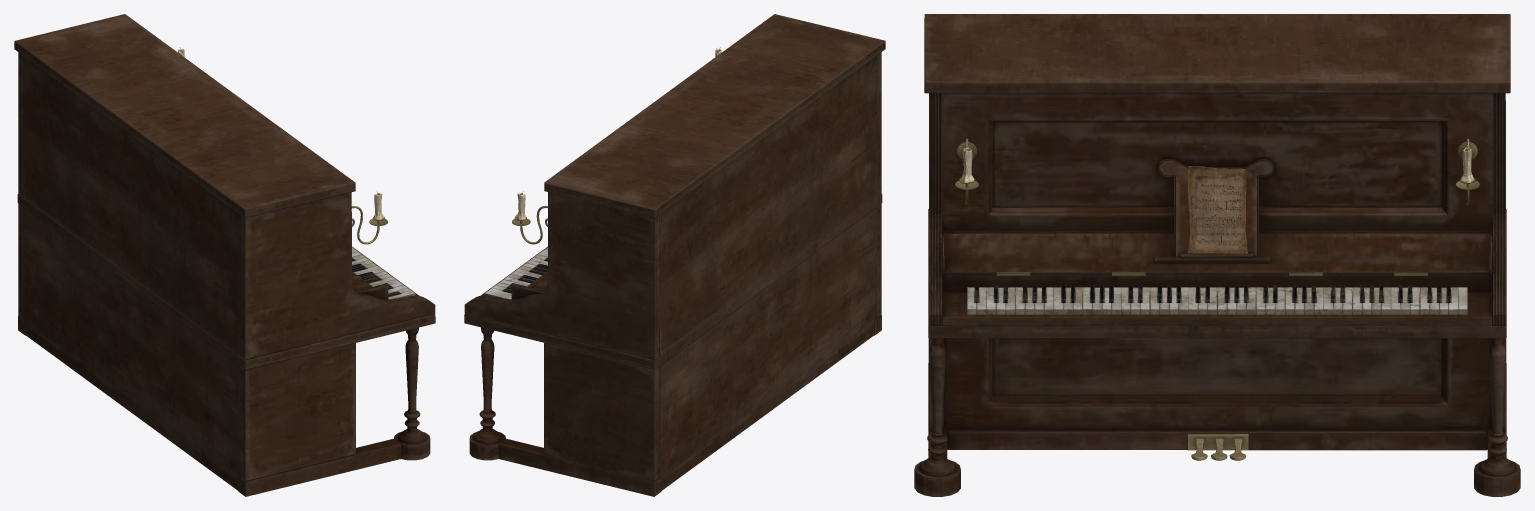
File: piano.glb
The picture shows the model from 3 angles, left to right: view 1: azimuth 30°, elevation 25°; view 2: azimuth 150°, elevation 25°; view 3: azimuth 270°, elevation 25°; orthographic projection. The views are drawn at different scales.
Bounding box in the file's own units: 0.0801 × 0.115 × 0.1721.
Materials: 5 (5 with a texture image).
